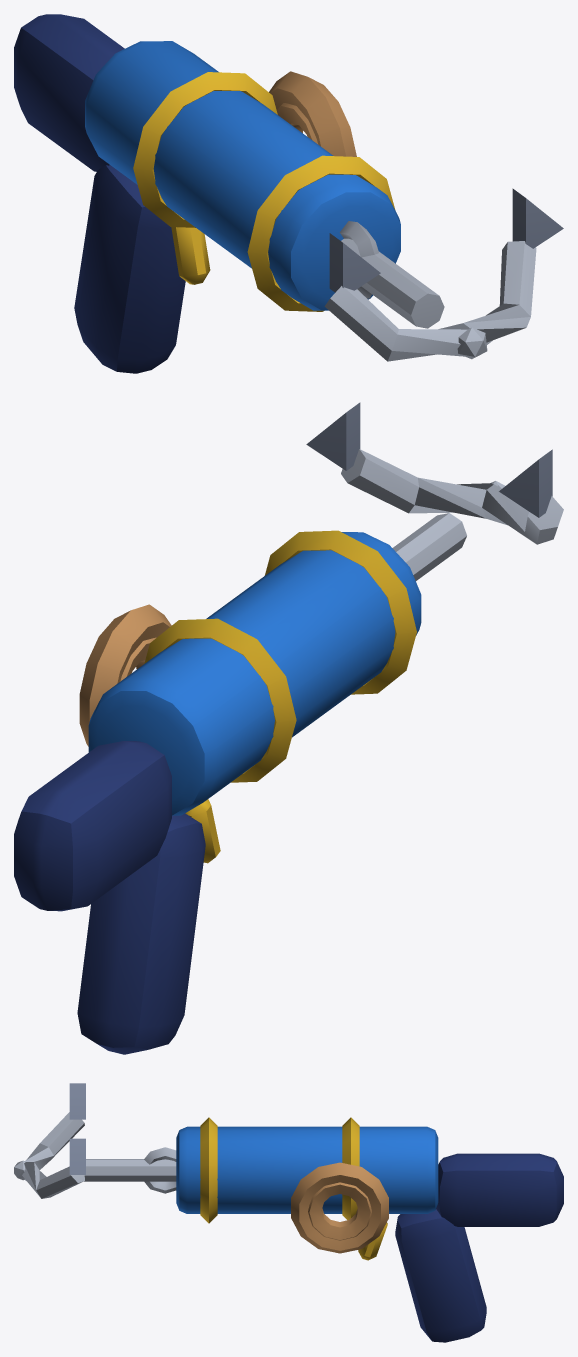
Rendered from w_j_harpoon.glb.
3 views of the same model, one above another, from view 1: azimuth 30°, elevation 25°; view 2: azimuth 150°, elevation 25°; view 3: azimuth 270°, elevation 25° (orthographic). The views are drawn at different scales.
Visible parts, largest first — view 1: body; view 2: body; view 3: body.
Part boxes in pixels (x1,y1,x2,y2): body: (14, 14, 563, 373); body: (14, 402, 563, 1054); body: (14, 1083, 563, 1342).
Size of the model in its own units: 0.3054 by 0.4614 by 1.01.
